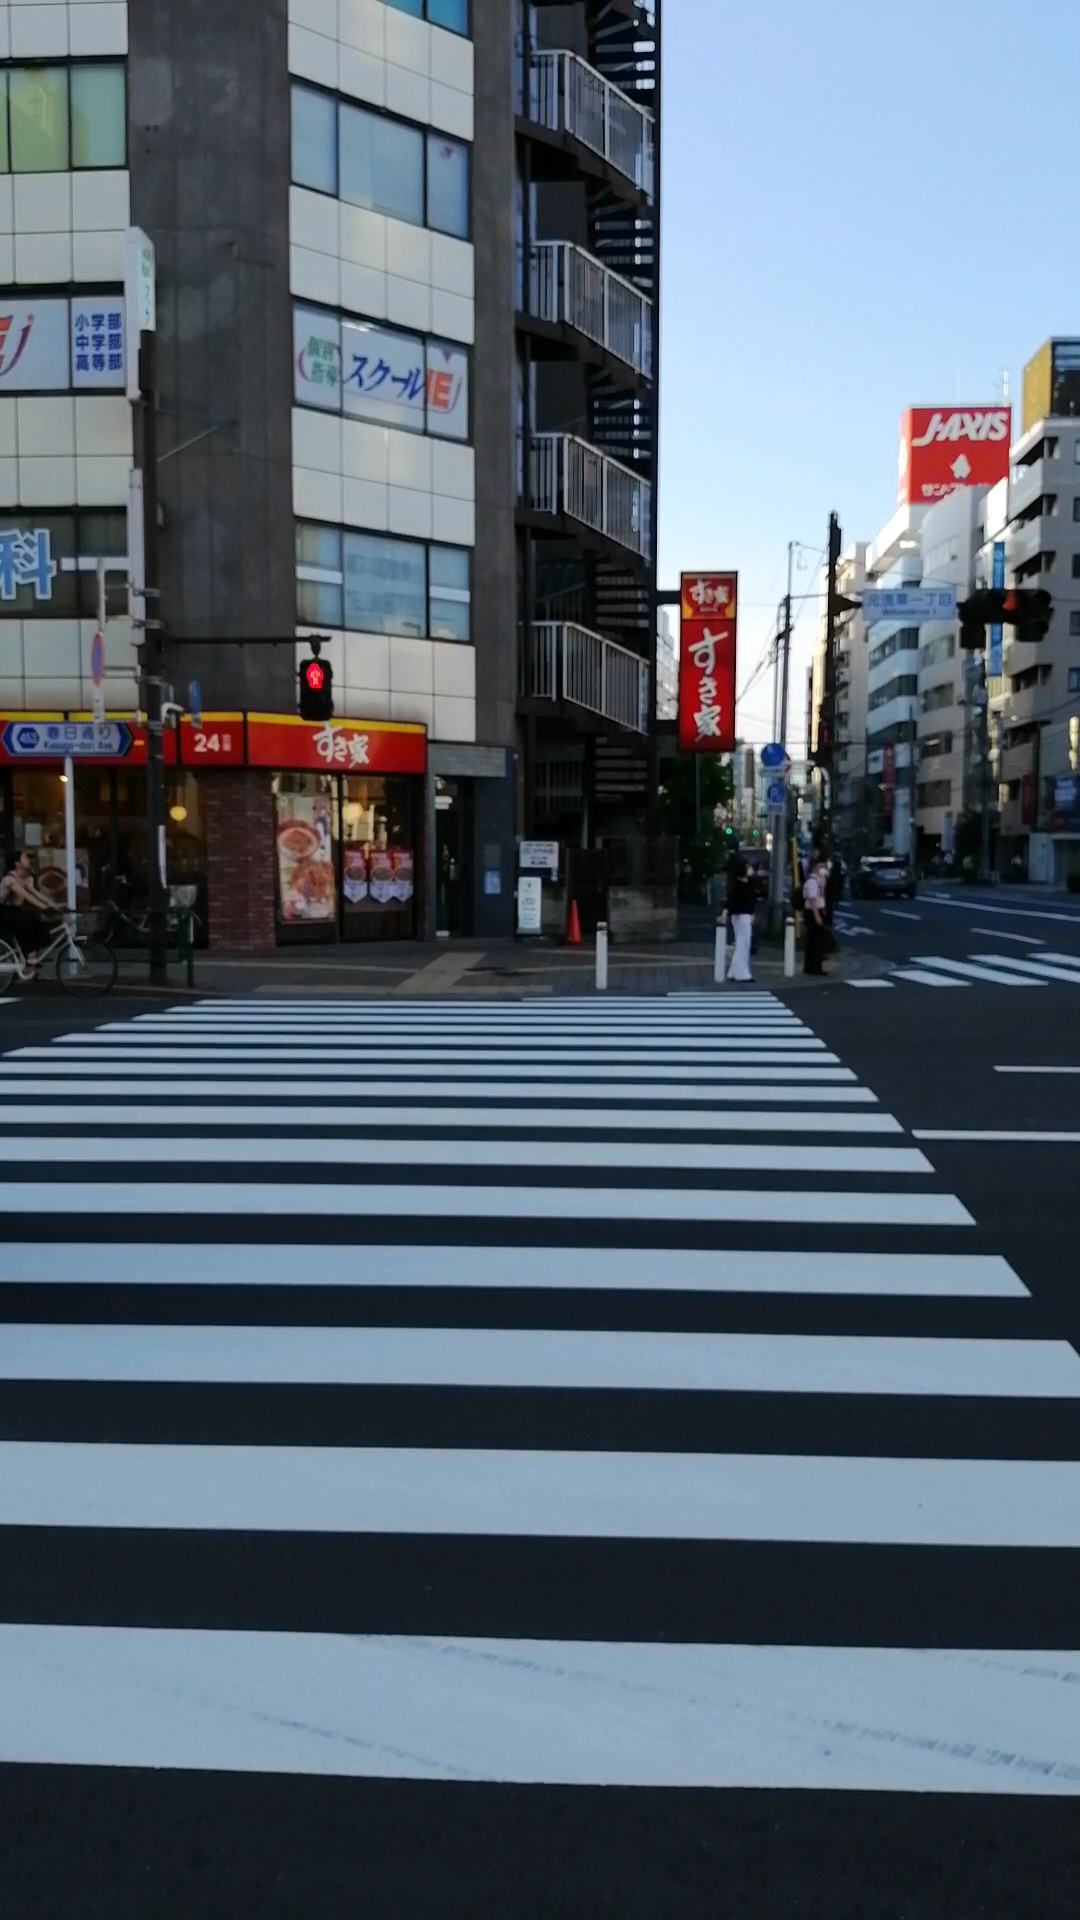red: (299, 658, 335, 728)
